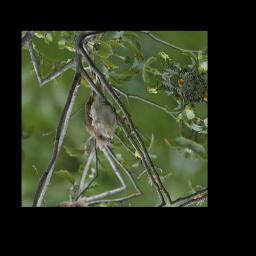Cuckoo: (75, 74, 132, 151)
